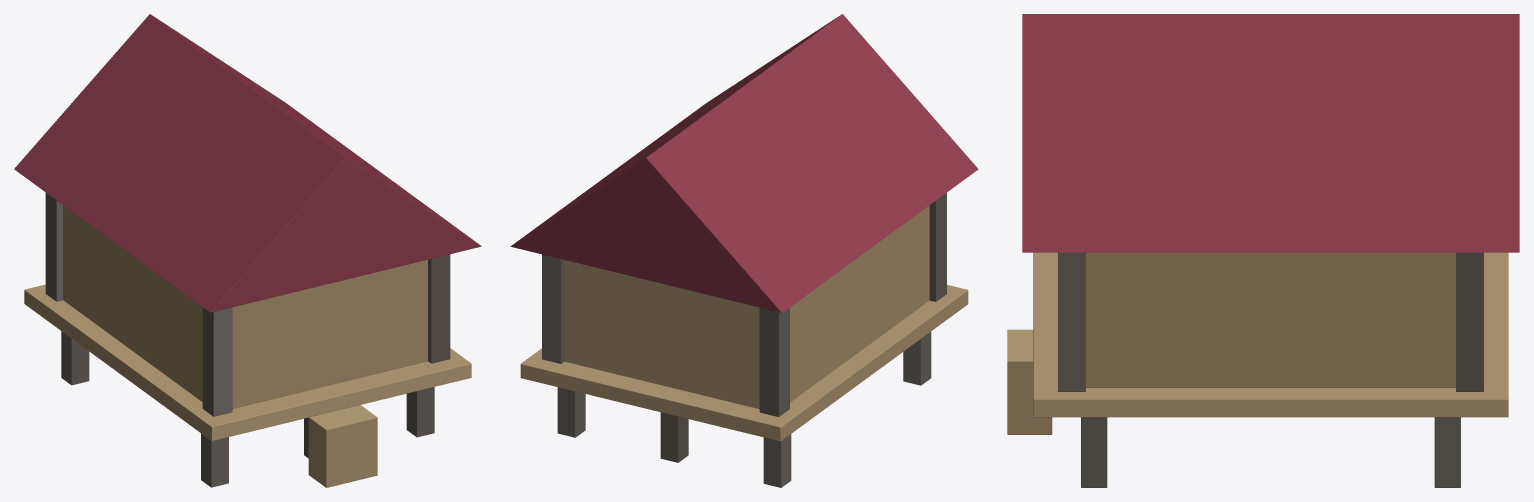
The model's file is House_Neo_d.fbx.
The picture shows the model from 3 angles, left to right: view 1: azimuth 30°, elevation 25°; view 2: azimuth 150°, elevation 25°; view 3: azimuth 270°, elevation 25°; orthographic projection. The views are drawn at different scales.
Parts seen in each view (by area): view 1: House_Neo_d; view 2: House_Neo_d; view 3: House_Neo_d.
Boxes of the visible parts, x1,y1,x2,y2 form: House_Neo_d: (14,14,481,487); House_Neo_d: (510,14,978,487); House_Neo_d: (1007,14,1519,487).
Size of what is drawn, in the model's own units: 3.95 by 4.45 by 5.1.
